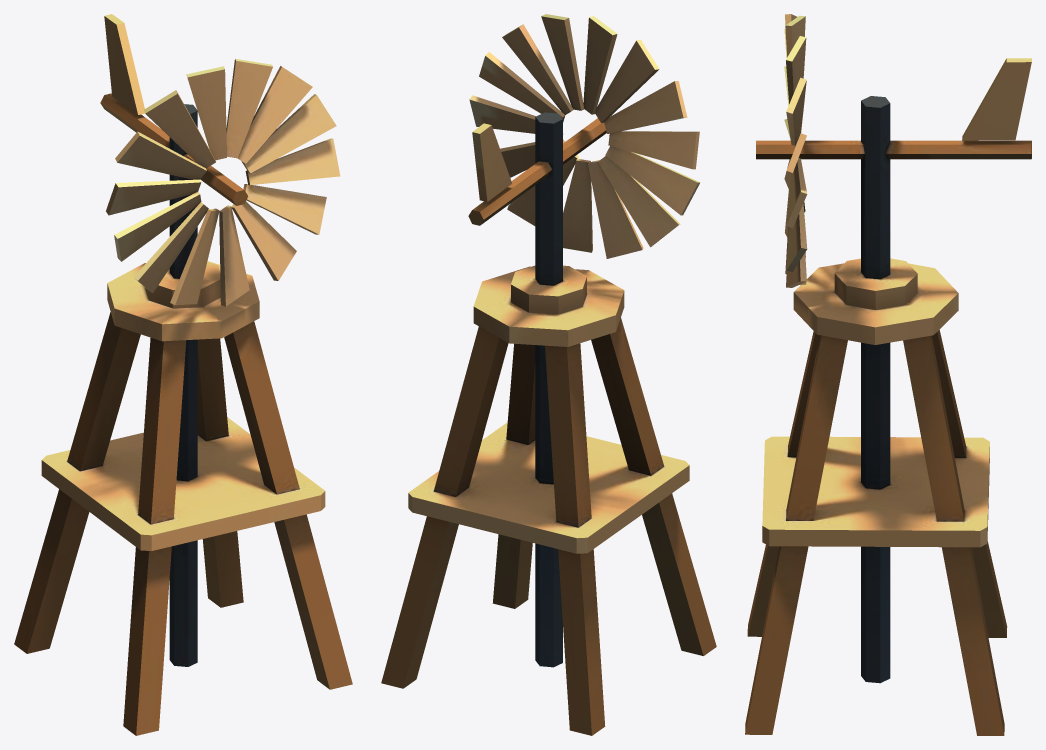
File: windpump.glb
3 renders of one model, left to right at view 1: azimuth 30°, elevation 25°; view 2: azimuth 150°, elevation 25°; view 3: azimuth 270°, elevation 25°, orthographic. The views are drawn at different scales.
Parts seen in each view (by area): view 1: wind_turbine; view 2: wind_turbine; view 3: wind_turbine.
Boxes of the visible parts, box(x1,y1,x2,y2) form: wind_turbine: box(14, 14, 352, 735); wind_turbine: box(381, 14, 716, 735); wind_turbine: box(745, 14, 1031, 735).
Bounding box in the file's own units: 3.39 × 9 × 3.57.
1 material, 1 textured.
